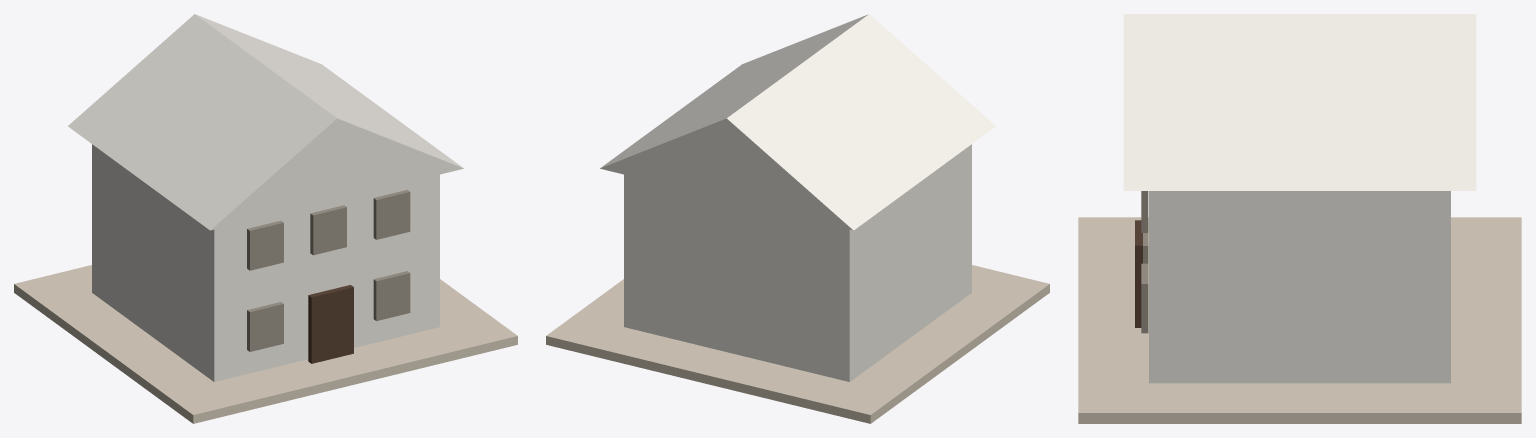
The model's file is clay-terrace.glb.
3 renders of one model, left to right at view 1: azimuth 30°, elevation 25°; view 2: azimuth 150°, elevation 25°; view 3: azimuth 270°, elevation 25°, orthographic. The views are drawn at different scales.
Parts seen in each view (by area): view 1: Anonymous pitched roof, Clay walls, Site boundary, Entry, Window 1-2, Window 0-2, Window 1-1, Window 1-0, Window 0-0; view 2: Clay walls, Anonymous pitched roof, Site boundary; view 3: Anonymous pitched roof, Clay walls, Site boundary, Entry, Window 0-2.
Part boxes in pixels (x1,y1,x2,y2): Anonymous pitched roof: [68, 14, 463, 230]; Clay walls: [92, 144, 439, 381]; Site boundary: [14, 265, 517, 423]; Entry: [308, 285, 353, 363]; Window 1-2: [373, 189, 410, 239]; Window 0-2: [373, 271, 410, 320]; Window 1-1: [310, 205, 346, 255]; Window 1-0: [247, 220, 283, 270]; Window 0-0: [247, 302, 283, 351]; Clay walls: [624, 144, 971, 381]; Anonymous pitched roof: [600, 14, 995, 230]; Site boundary: [546, 265, 1049, 423]; Anonymous pitched roof: [1123, 14, 1476, 190]; Clay walls: [1149, 191, 1450, 383]; Site boundary: [1078, 217, 1521, 423]; Entry: [1135, 220, 1142, 327]; Window 0-2: [1141, 263, 1148, 333].
Size of the model in its own units: 2.3 by 1.71 by 2.2.
